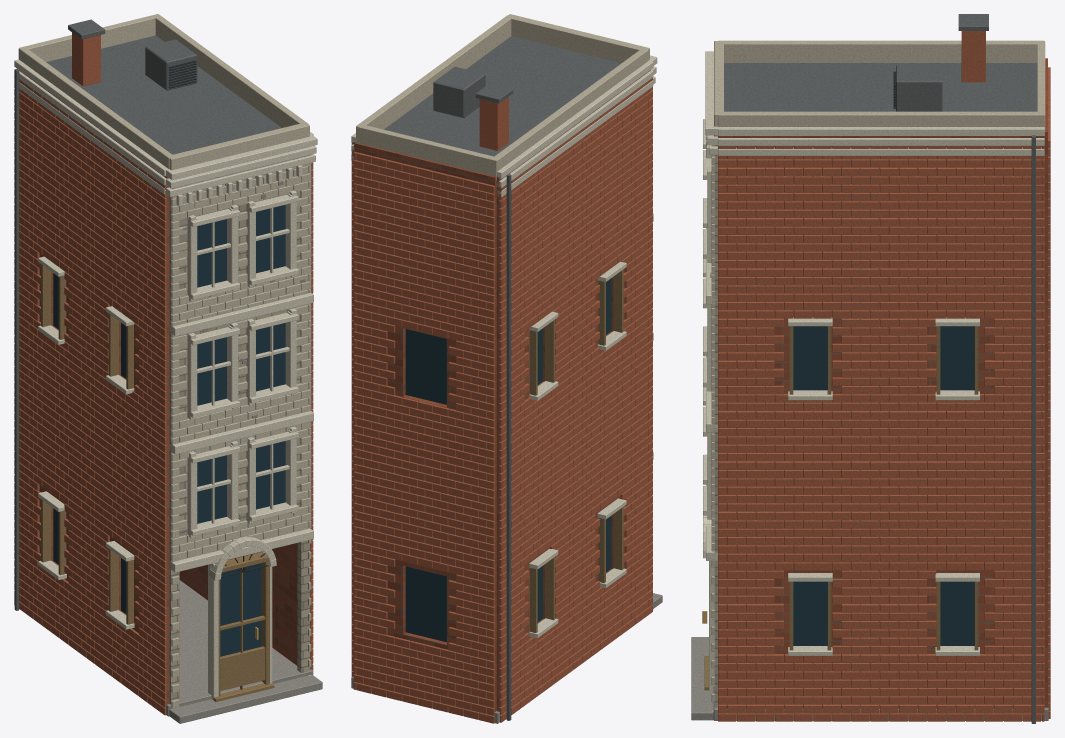
The model's file is OFFC17_lod0.glb.
The picture shows the model from 3 angles, left to right: view 1: azimuth 30°, elevation 25°; view 2: azimuth 150°, elevation 25°; view 3: azimuth 270°, elevation 25°; orthographic projection. The views are drawn at different scales.
Parts seen in each view (by area): view 1: OFFC17_LOD0; view 2: OFFC17_LOD0; view 3: OFFC17_LOD0.
Boxes of the visible parts, <box> form: OFFC17_LOD0: <box>14,14,322,723</box>; OFFC17_LOD0: <box>351,14,662,723</box>; OFFC17_LOD0: <box>691,14,1050,723</box>.
Bounding box in the file's own units: 3.71 × 13.05 × 6.6.
Materials: 16 (13 with a texture image).
